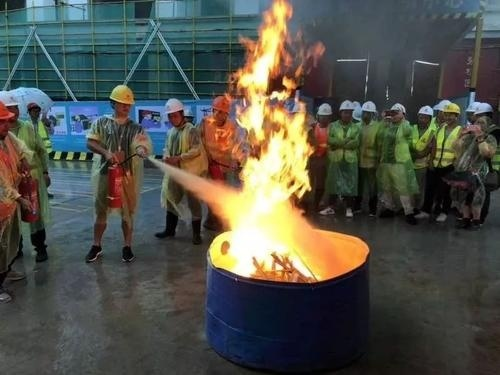fire: (203, 0, 337, 285)
